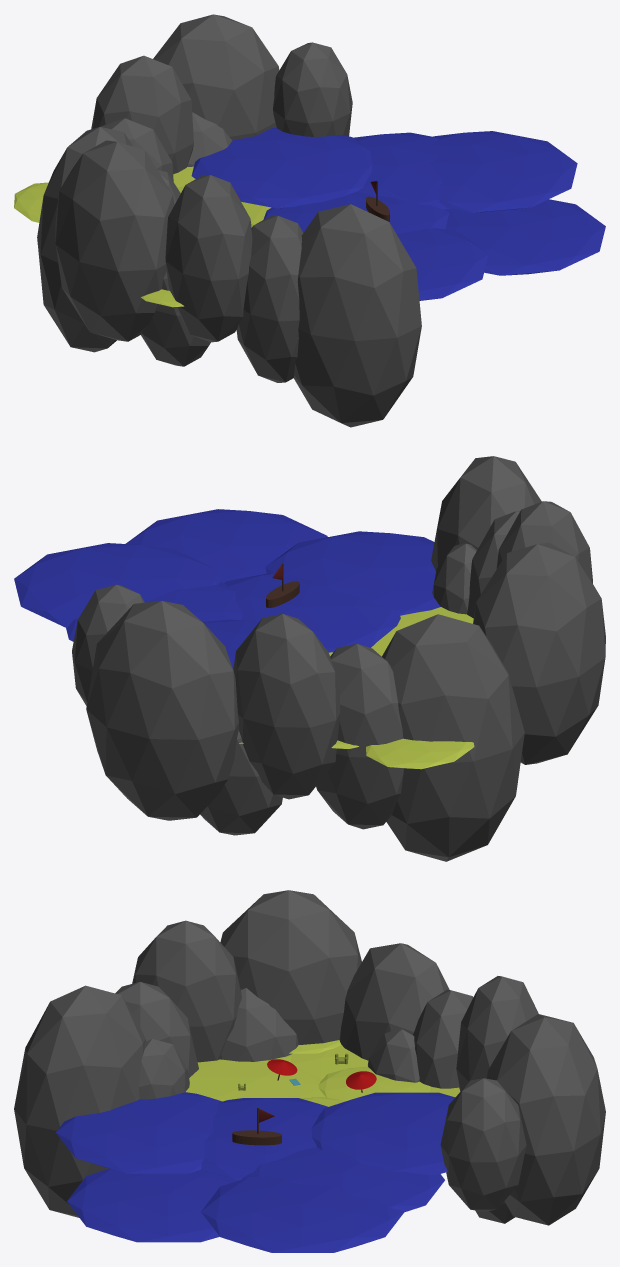
The model's file is summer.obj.
The picture shows the model from 3 angles, top to bottom: view 1: azimuth 30°, elevation 25°; view 2: azimuth 150°, elevation 25°; view 3: azimuth 270°, elevation 25°; orthographic projection. The views are drawn at different scales.
Parts seen in each view (by area): view 1: Icosphere_Icosphere.002, ocean_Icosphere, sand_Icosphere.014; view 2: Icosphere_Icosphere.002, ocean_Icosphere, sand_Icosphere.014, boat_Cone.001; view 3: Icosphere_Icosphere.002, ocean_Icosphere, sand_Icosphere.014, boat_Cone.001.
Part boxes in pixels (box(x1,y1,x2,y2)): Icosphere_Icosphere.002: box(37, 14, 421, 427); ocean_Icosphere: box(191, 128, 605, 300); sand_Icosphere.014: box(14, 166, 271, 307); Icosphere_Icosphere.002: box(72, 456, 605, 861); ocean_Icosphere: box(14, 509, 440, 669); sand_Icosphere.014: box(239, 607, 474, 769); boat_Cone.001: box(266, 563, 299, 607); Icosphere_Icosphere.002: box(14, 890, 605, 1225); ocean_Icosphere: box(56, 1092, 454, 1252); sand_Icosphere.014: box(186, 1040, 460, 1106); boat_Cone.001: box(232, 1107, 281, 1145).
Size of the model in its own units: 210 by 102 by 205.
